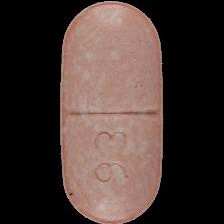0093-7113: (0, 0, 224, 224)
